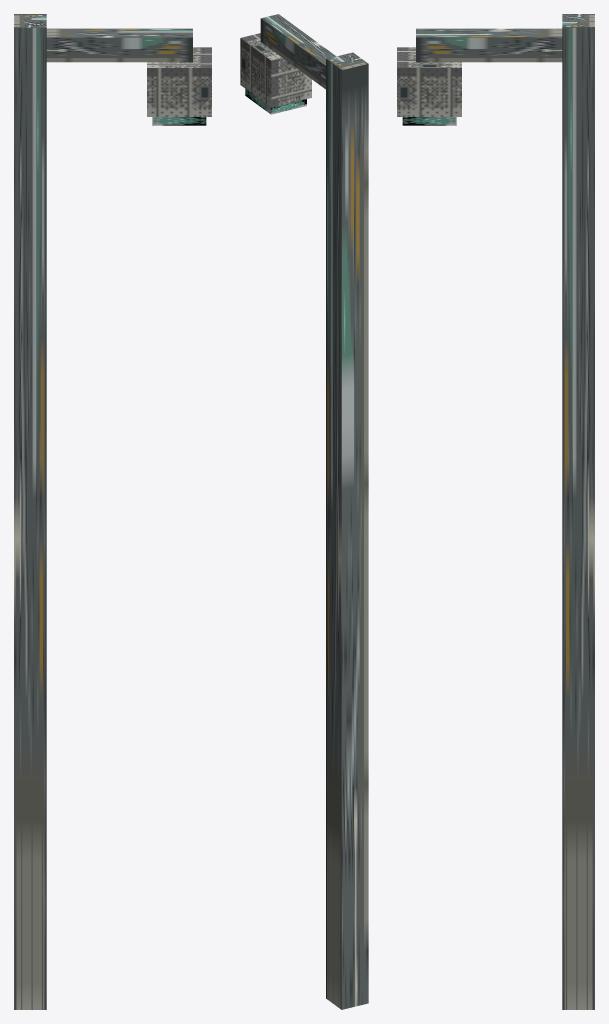
File: lamp.glb
The picture shows the model from 3 angles, left to right: view 1: azimuth 90°, elevation 25°; view 2: azimuth 210°, elevation 25°; view 3: azimuth 270°, elevation 25°; orthographic projection. The views are drawn at different scales.
Visible parts, largest first — view 1: Lamp_Pole, Lamp_Arm, Lamp_Head, Lamp_Plafond; view 2: Lamp_Pole, Lamp_Head, Lamp_Arm, Lamp_Plafond; view 3: Lamp_Pole, Lamp_Arm, Lamp_Head, Lamp_Plafond.
Boxes of the visible parts, x1=… form: Lamp_Pole: x1=14, y1=14, x2=46, y2=1009; Lamp_Arm: x1=46, y1=28, x2=192, y2=62; Lamp_Head: x1=147, y1=47, x2=211, y2=116; Lamp_Plafond: x1=152, y1=117, x2=206, y2=125; Lamp_Pole: x1=326, y1=52, x2=368, y2=1009; Lamp_Head: x1=240, y1=33, x2=311, y2=107; Lamp_Arm: x1=260, y1=14, x2=336, y2=89; Lamp_Plafond: x1=245, y1=89, x2=306, y2=114; Lamp_Pole: x1=562, y1=14, x2=594, y2=1009; Lamp_Arm: x1=416, y1=28, x2=562, y2=62; Lamp_Head: x1=397, y1=47, x2=461, y2=116; Lamp_Plafond: x1=402, y1=117, x2=456, y2=125.
Size of the model in its own units: 0.18 by 4 by 0.73.
2 materials, 2 textured.
